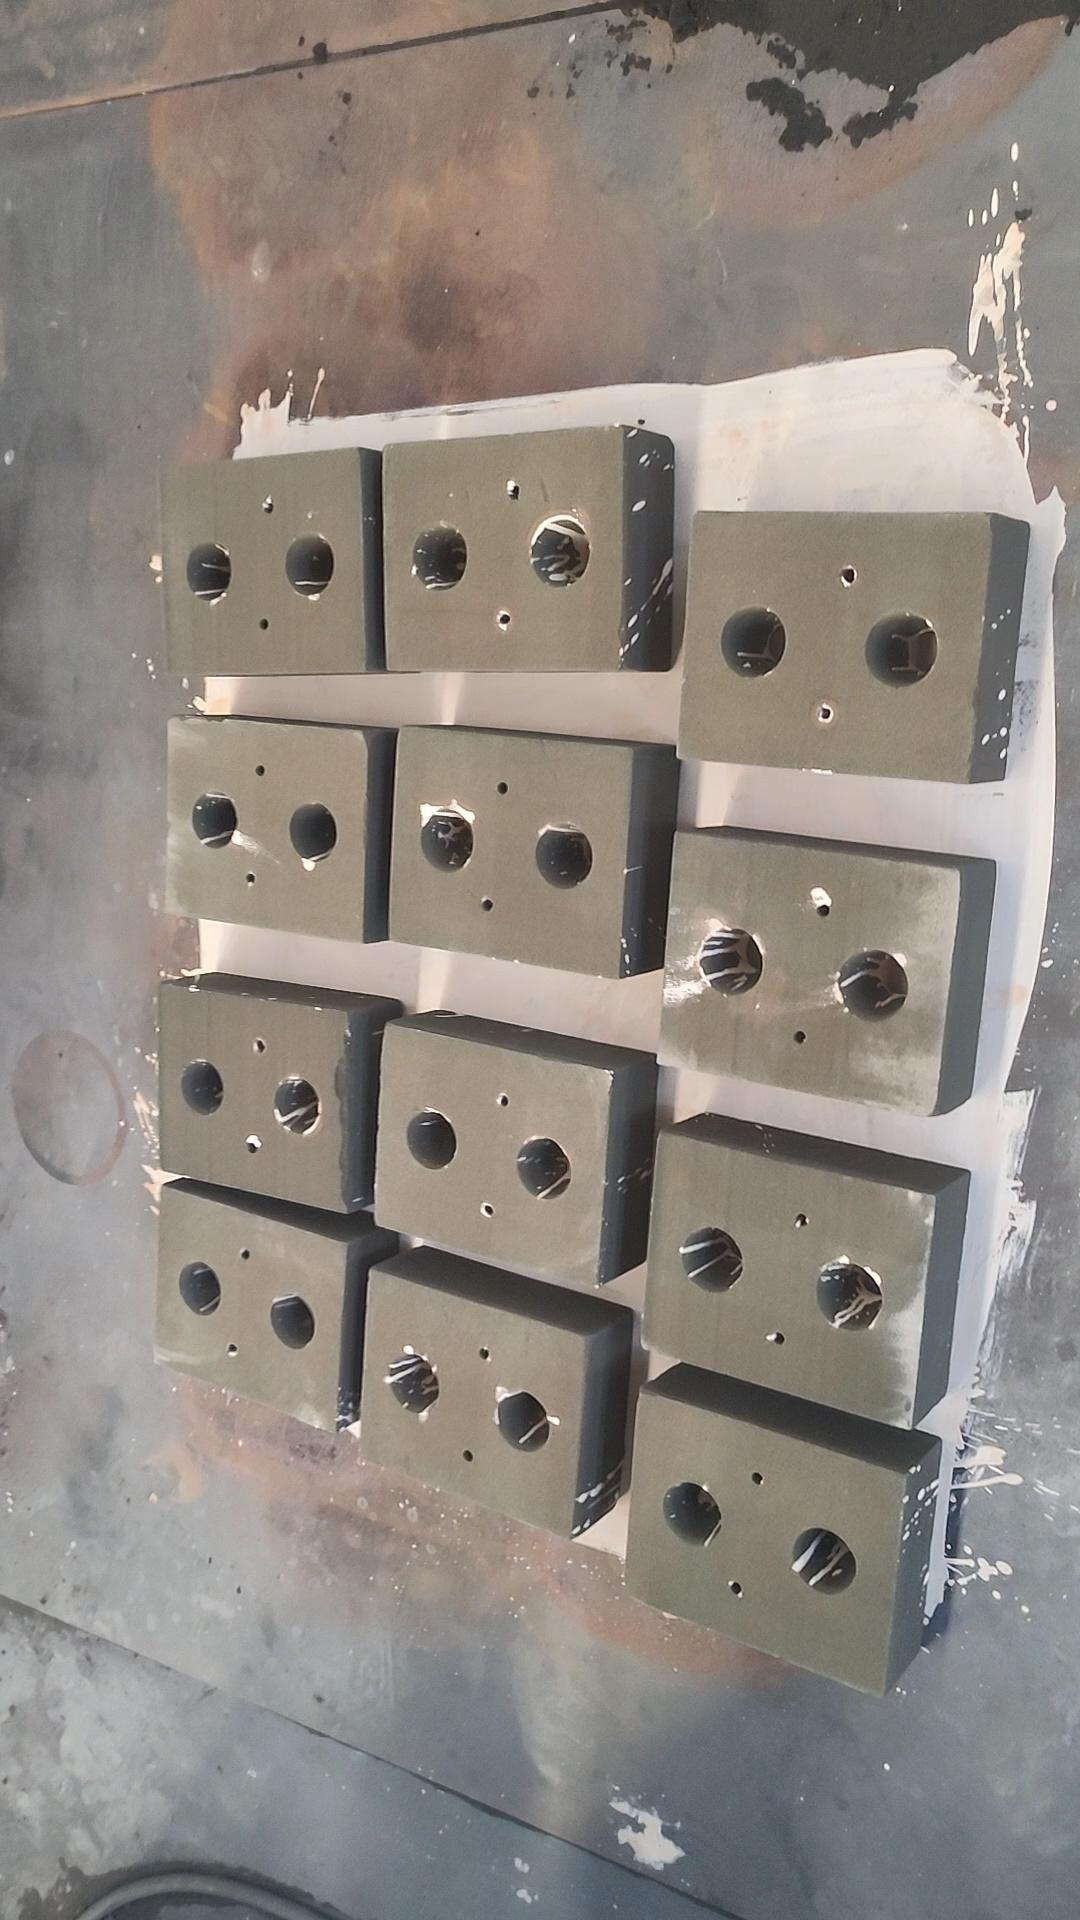pouring hole: (862, 611, 939, 688), (837, 948, 909, 1021), (720, 603, 787, 678), (815, 1263, 884, 1331), (530, 512, 589, 588), (700, 924, 764, 994), (680, 1226, 744, 1294), (794, 1527, 856, 1596), (534, 822, 593, 887), (413, 522, 468, 591), (663, 1484, 723, 1545), (516, 1137, 574, 1199), (419, 807, 473, 872), (493, 1390, 550, 1451), (284, 531, 335, 596), (287, 800, 339, 861), (389, 1350, 439, 1412), (407, 1109, 456, 1168), (186, 541, 233, 601), (269, 1291, 315, 1352), (272, 1076, 319, 1134), (193, 790, 237, 851), (179, 1058, 223, 1117), (178, 1262, 222, 1316)
